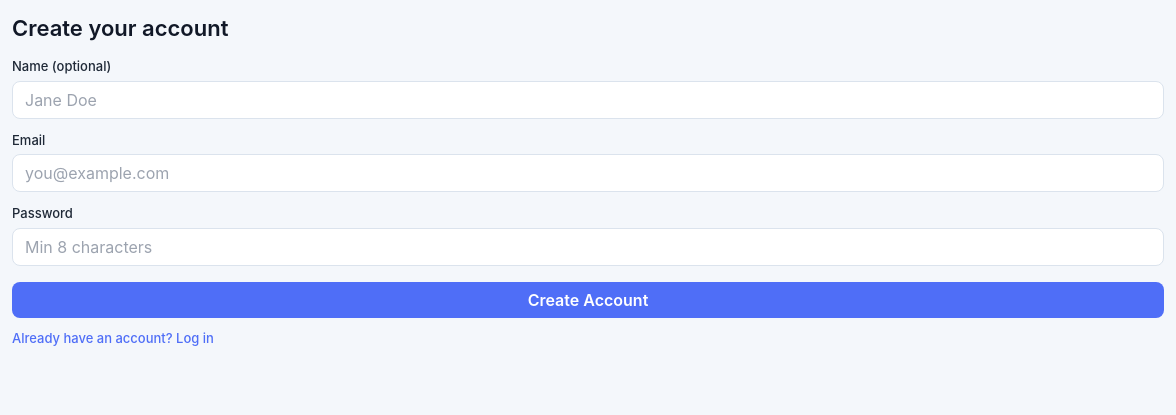
RegisterForm › shows the backend error when registration fails
In the field labelled "Email": {"x": 588, "y": 173} [12,154,1164,192], type "taken@example.com"
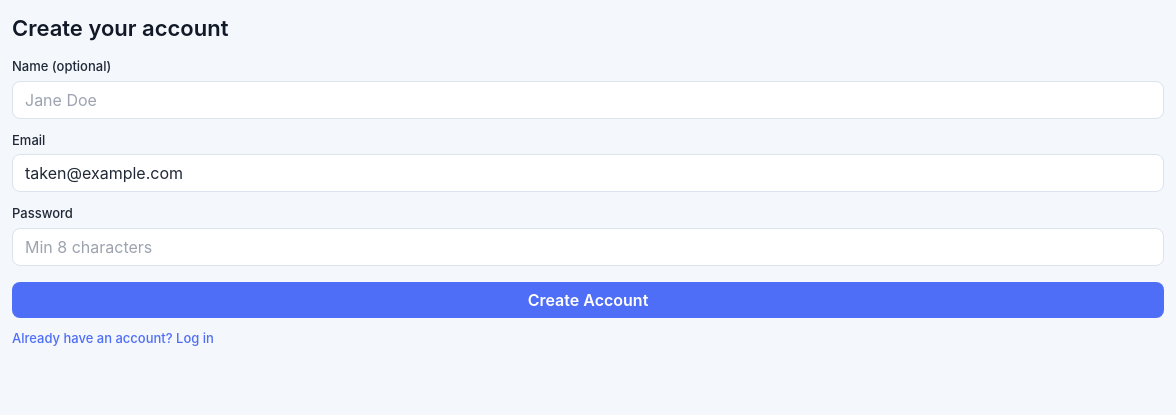
In the password field labelled "Password": {"x": 588, "y": 246} [12,228,1164,266], type "password123"
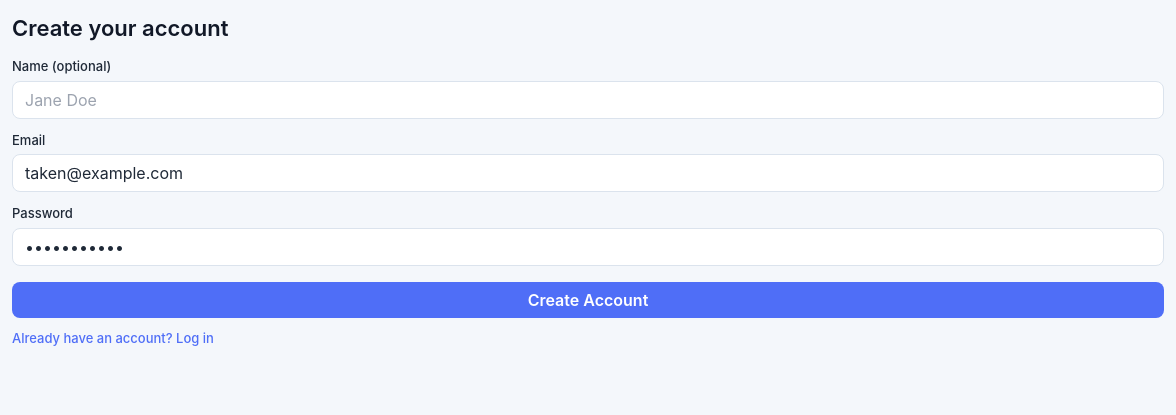
Click the button "Create Account": {"x": 588, "y": 300} [12,282,1164,318]
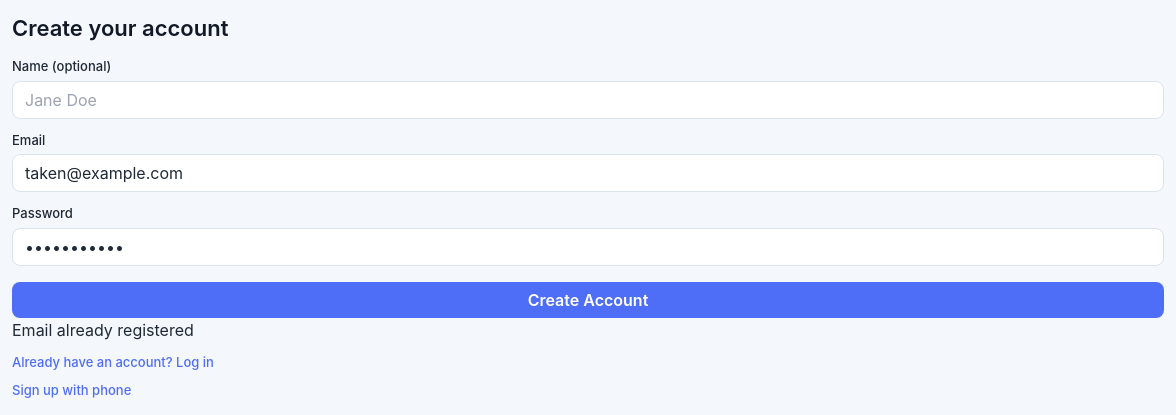
Result: the message reads "Email already registered" at [12,320,194,340]
